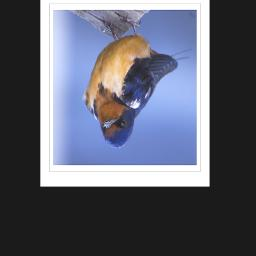Swallow: (82, 12, 193, 150)
